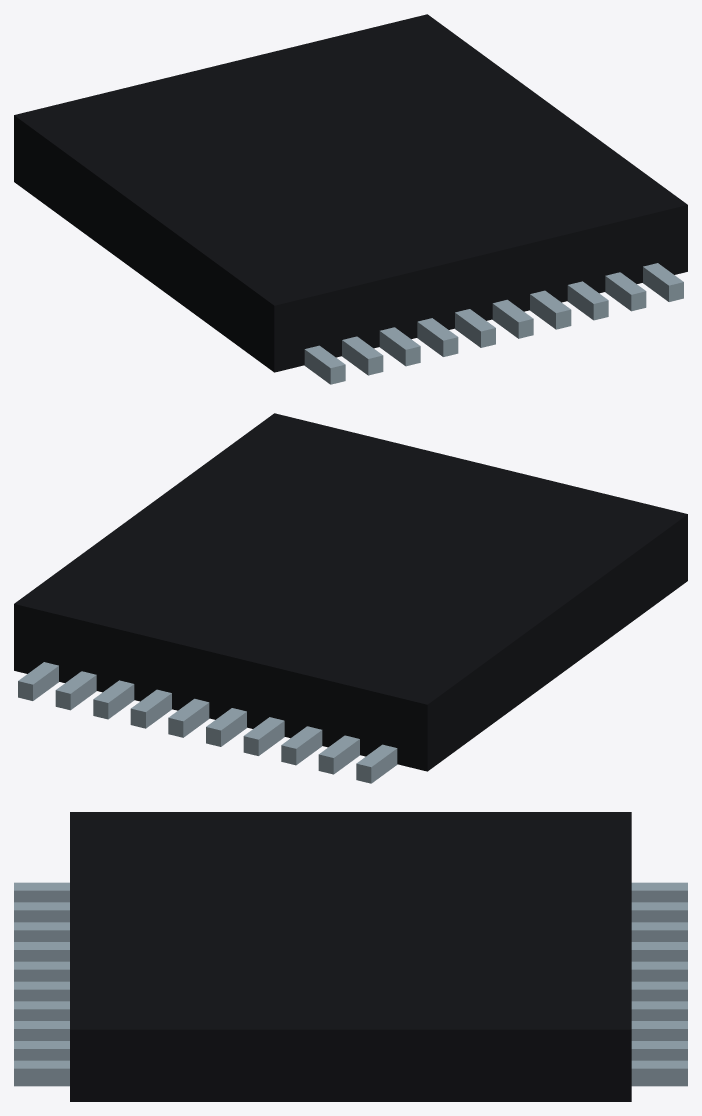
The picture shows the model from 3 angles, top to bottom: view 1: azimuth 30°, elevation 25°; view 2: azimuth 150°, elevation 25°; view 3: azimuth 270°, elevation 25°; orthographic projection. The views are drawn at different scales.
Visible parts, largest first — view 1: Epoxy_Package, GullWing_1_08, GullWing_1_01, GullWing_1_02, GullWing_1_05, GullWing_1_07, GullWing_1_00, GullWing_1_03, GullWing_1_06, GullWing_1_09, GullWing_1_04; view 2: Epoxy_Package, GullWing_-1_08, GullWing_-1_01, GullWing_-1_02, GullWing_-1_05, GullWing_-1_07, GullWing_-1_00, GullWing_-1_03, GullWing_-1_06, GullWing_-1_09, GullWing_-1_04; view 3: Epoxy_Package, GullWing_-1_09, GullWing_1_09, GullWing_-1_01, GullWing_-1_04, GullWing_-1_00, GullWing_-1_05, GullWing_1_00, GullWing_1_01, GullWing_1_04, GullWing_1_05, GullWing_-1_02 (+9 smaller).
Boxes of the visible parts, bbox=[...] form: Epoxy_Package: bbox=[14, 14, 687, 372]; GullWing_1_08: bbox=[605, 272, 646, 311]; GullWing_1_01: bbox=[342, 336, 383, 375]; GullWing_1_02: bbox=[379, 327, 420, 366]; GullWing_1_05: bbox=[492, 299, 533, 338]; GullWing_1_07: bbox=[567, 281, 608, 320]; GullWing_1_00: bbox=[304, 345, 345, 384]; GullWing_1_03: bbox=[417, 318, 458, 356]; GullWing_1_06: bbox=[530, 290, 571, 329]; GullWing_1_09: bbox=[643, 263, 683, 301]; GullWing_1_04: bbox=[455, 309, 495, 347]; Epoxy_Package: bbox=[14, 413, 687, 771]; GullWing_-1_08: bbox=[55, 671, 96, 710]; GullWing_-1_01: bbox=[318, 735, 359, 774]; GullWing_-1_02: bbox=[281, 726, 322, 765]; GullWing_-1_05: bbox=[168, 698, 209, 737]; GullWing_-1_07: bbox=[93, 680, 134, 719]; GullWing_-1_00: bbox=[356, 744, 397, 783]; GullWing_-1_03: bbox=[243, 717, 284, 755]; GullWing_-1_06: bbox=[130, 689, 171, 728]; GullWing_-1_09: bbox=[18, 662, 58, 700]; GullWing_-1_04: bbox=[206, 708, 246, 746]; Epoxy_Package: bbox=[70, 812, 631, 1101]; GullWing_-1_09: bbox=[631, 1060, 687, 1086]; GullWing_1_09: bbox=[14, 1060, 69, 1086]; GullWing_-1_01: bbox=[631, 902, 687, 922]; GullWing_-1_04: bbox=[631, 961, 687, 981]; GullWing_-1_00: bbox=[631, 882, 687, 902]; GullWing_-1_05: bbox=[631, 981, 687, 1001]; GullWing_1_00: bbox=[14, 882, 69, 902]; GullWing_1_01: bbox=[14, 902, 69, 922]; GullWing_1_04: bbox=[14, 961, 69, 981]; GullWing_1_05: bbox=[14, 981, 69, 1001]; GullWing_-1_02: bbox=[631, 922, 687, 941].
Bounding box in the file's own units: 1.1 × 0.171 × 1.44.
